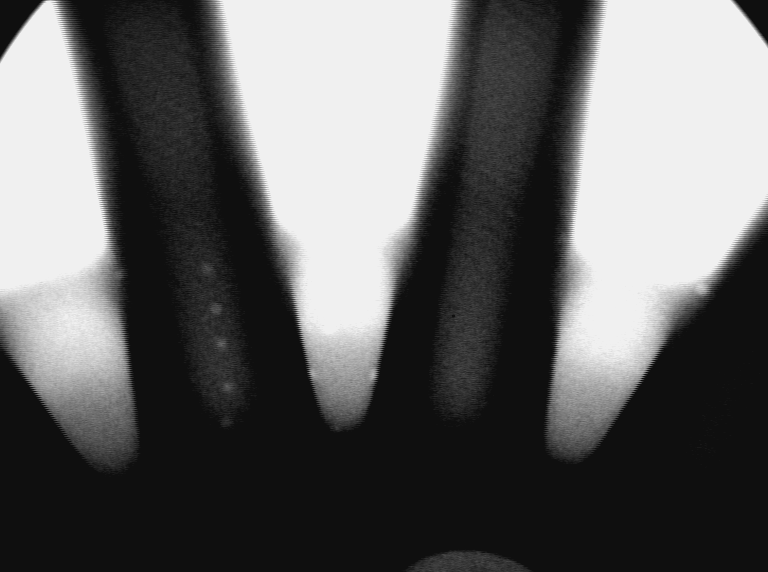defect: (110, 265, 127, 283)
